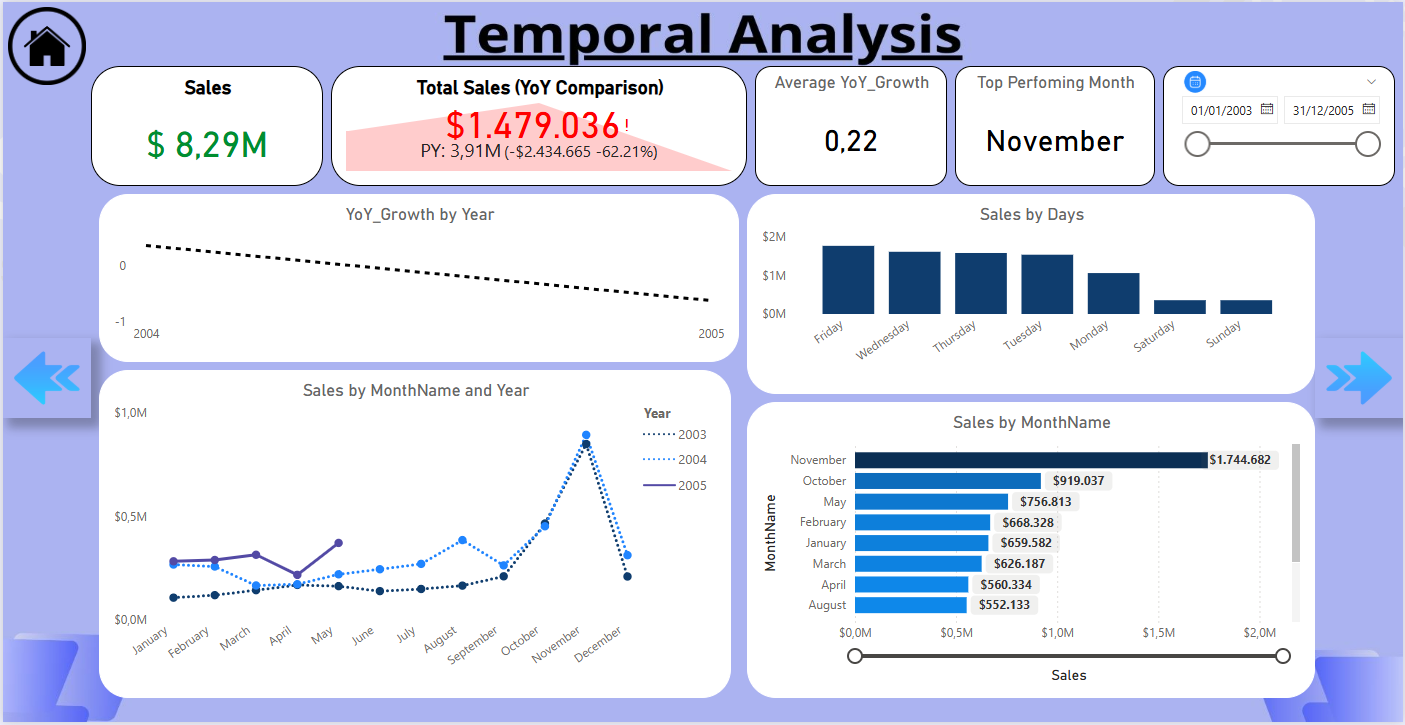

The dashboard page shown, as its layout file describes it:
{"tool":"powerbi","page":{"name":"Temporal Analysis","canvas":[1400,720],"ordinal":3},"visuals":[{"type":"slicer","fields":{"Values":["Dim_Calendar.Date"]},"box":[1160,64,232,120],"z":0},{"type":"image","box":[1168,64,48,32],"z":1000},{"type":"image","box":[1312,336,88,80],"z":2000},{"type":"image","box":[0,336,88,80],"z":3000},{"type":"lineChart","title":"YoY_Growth by Year","fields":{"Y":["Measure.009 $ YoY_Growth"],"Category":["Dim_Calendar.Year"]},"box":[96,192,640,168],"z":4000},{"type":"image","box":[0,0,88,88],"z":5000},{"type":"lineChart","fields":{"Y":["Measure.002 $ Total_Sales"],"Category":["Dim_Calendar.MonthName"],"Series":["Dim_Calendar.Year"]},"box":[96,368,632,328],"z":6000},{"type":"cardVisual","title":"Sales","fields":{"Data":["Measure.002 $ Total_Sales"]},"box":[88,64,232,120],"z":7000},{"type":"clusteredBarChart","fields":{"Category":["Dim_Calendar.MonthName"],"Y":["Measure.002 $ Total_Sales"]},"box":[744,400,568,296],"z":8000},{"type":"cardVisual","title":"Average YoY_Growth","fields":{"Data":["Measure.009 $ YoY_Growth"]},"box":[752,64,192,120],"z":9000},{"type":"columnChart","title":"Sales by Days","fields":{"Category":["Dim_Calendar.DayName","Dim_Product.PRODUCTLINE"],"Y":["Measure.002 $ Total_Sales"]},"box":[744,192,568,200],"z":10000},{"type":"cardVisual","title":"Top Perfoming Month","fields":{"Data":["Measure.021 $ Top_Performing_Month"]},"box":[952,64,200,120],"z":11000},{"type":"kpi","title":"Total Sales (YoY Comparison)","fields":{"Indicator":["Measure.002 $ Total_Sales"],"Goal":["Measure.022 $ Total_Sales_PY"],"TrendLine":["Dim_Calendar.Year"]},"box":[328,64,416,120],"z":12000}]}

Visuals, with their boxes in screenshot pixels (x1, y1, x2, y2), scaled from the page's 1400x720 canvas onto the 1405x725 screenshot:
slicer - Dim_Calendar.Date: region(1164, 64, 1397, 185)
image: region(1172, 64, 1220, 97)
image: region(1317, 338, 1404, 419)
image: region(0, 338, 88, 419)
"YoY_Growth by Year" lineChart: region(96, 193, 739, 362)
image: region(0, 0, 88, 89)
lineChart - Measure.002 $ Total_Sales x Dim_Calendar.MonthName: region(96, 371, 731, 701)
"Sales" cardVisual: region(88, 64, 321, 185)
clusteredBarChart - Dim_Calendar.MonthName x Measure.002 $ Total_Sales: region(747, 403, 1317, 701)
"Average YoY_Growth" cardVisual: region(755, 64, 947, 185)
"Sales by Days" columnChart: region(747, 193, 1317, 395)
"Top Perfoming Month" cardVisual: region(955, 64, 1156, 185)
"Total Sales (YoY Comparison)" kpi: region(329, 64, 747, 185)
